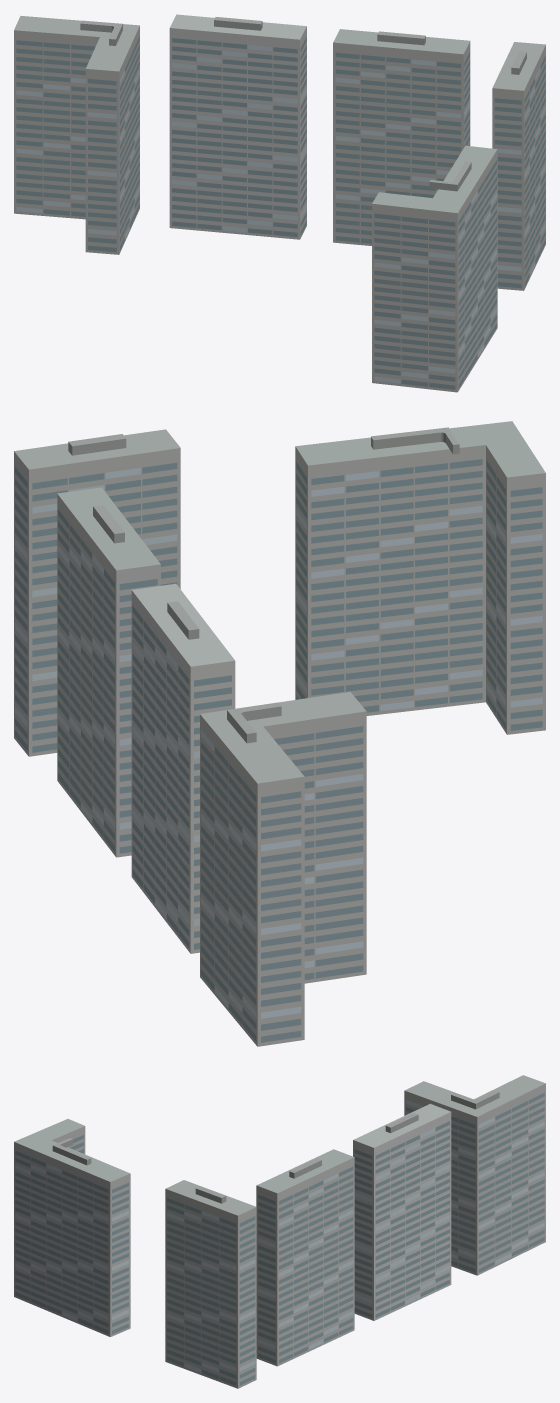
The model's file is apt-a12185606.glb.
3 renders of one model, top to bottom at view 1: azimuth 30°, elevation 25°; view 2: azimuth 150°, elevation 25°; view 3: azimuth 270°, elevation 25°, orthographic. The views are drawn at different scales.
Visible parts, largest first — view 1: apt-a12185606; view 2: apt-a12185606; view 3: apt-a12185606.
Boxes of the visible parts, box(x1,y1,x2,y2) form: apt-a12185606: box(14, 14, 545, 392); apt-a12185606: box(14, 421, 545, 1046); apt-a12185606: box(14, 1075, 545, 1388).
Bounding box in the file's own units: 141 × 75.6 × 204.
